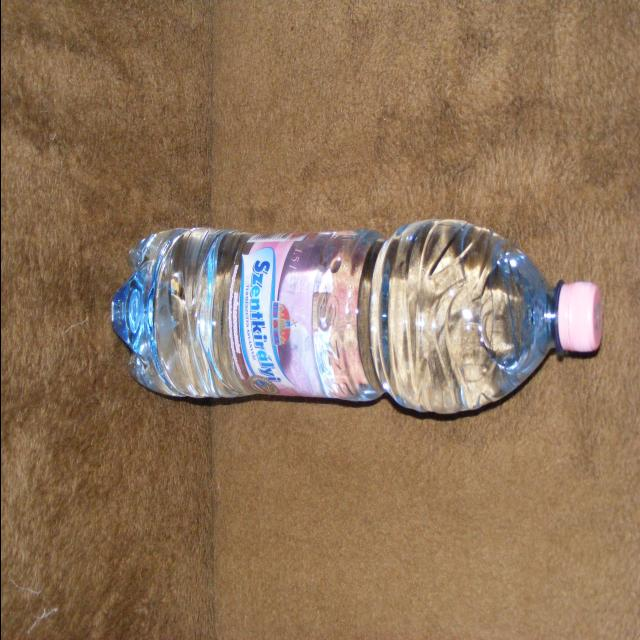bottle: (50, 186, 597, 468)
